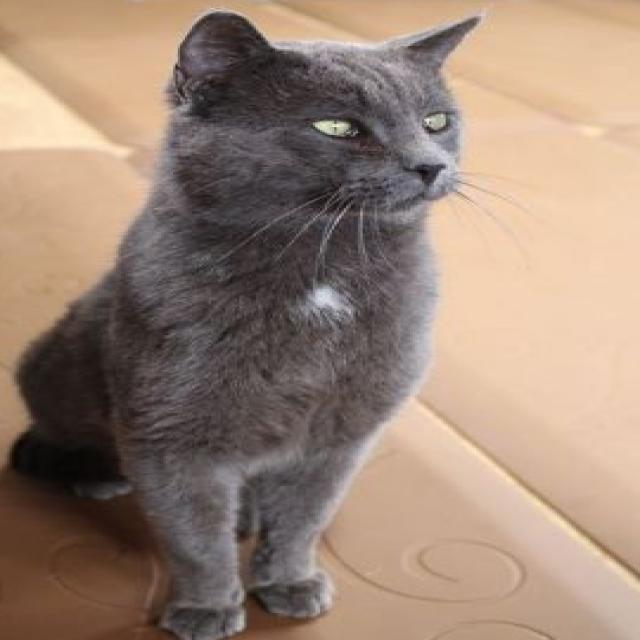Russian Blue: (2, 6, 488, 640)
